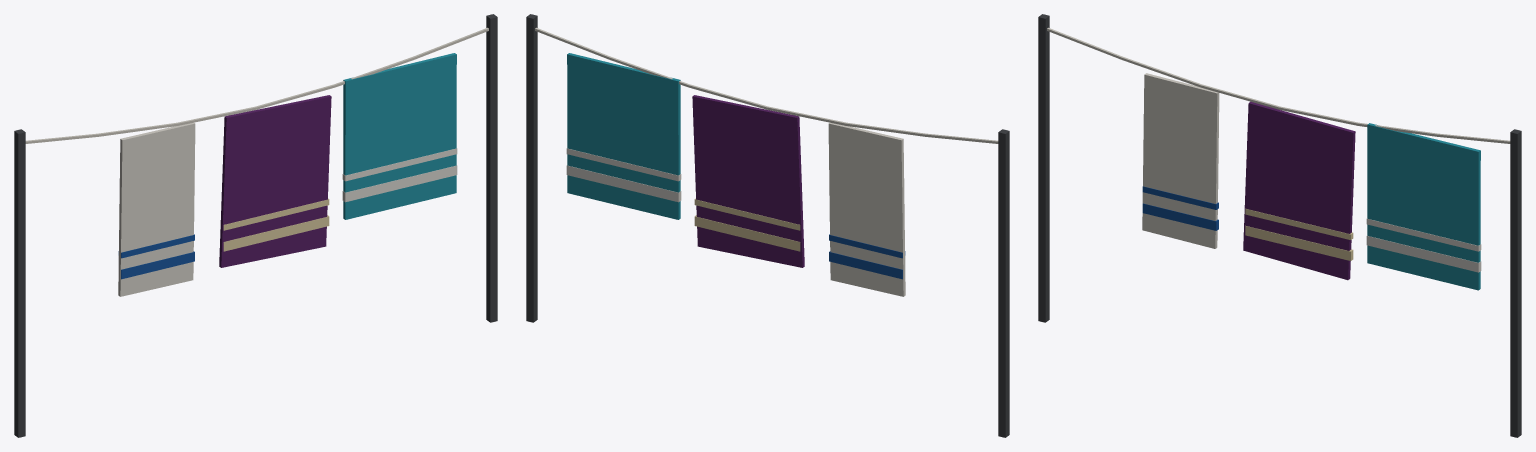
Rendered from laundry_poles.glb.
The picture shows the model from 3 angles, left to right: view 1: azimuth 30°, elevation 25°; view 2: azimuth 150°, elevation 25°; view 3: azimuth 330°, elevation 25°; orthographic projection.
Visible parts, largest first — view 1: laundry_poles; view 2: laundry_poles; view 3: laundry_poles.
Part boxes in pixels (left/top/right/bottom): laundry_poles: left=14, top=14, right=497, bottom=437; laundry_poles: left=526, top=14, right=1009, bottom=437; laundry_poles: left=1038, top=14, right=1521, bottom=437.
Size of the model in its own units: 2.64 by 1.6 by 0.04.
